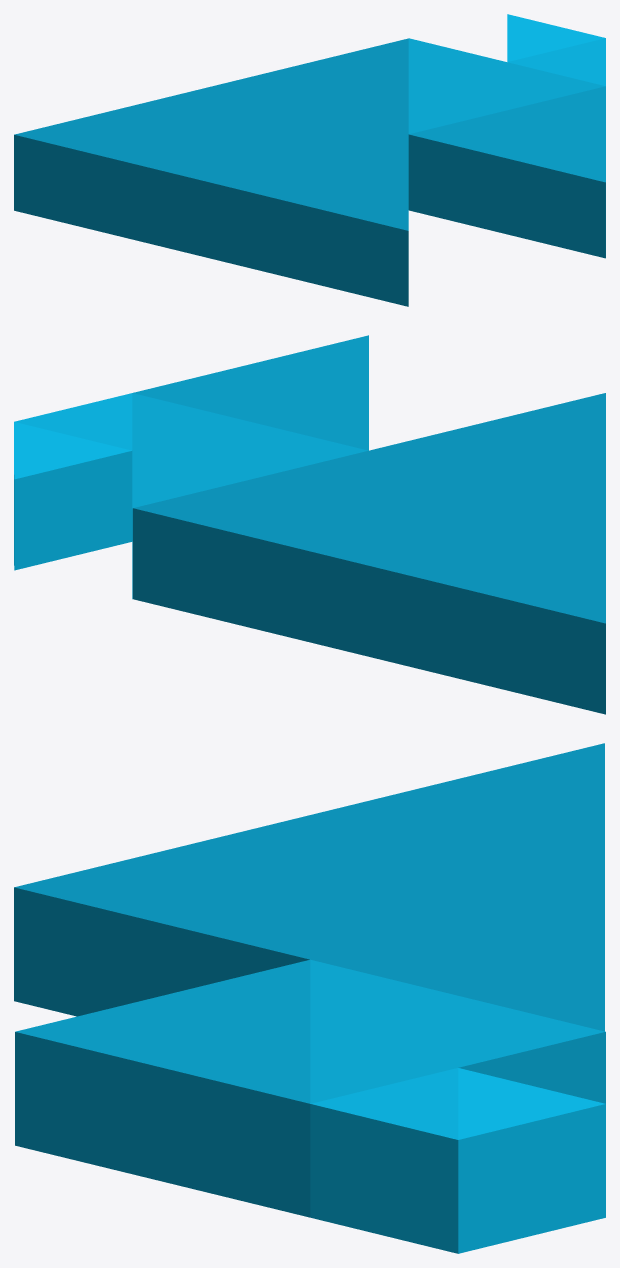
File: webgpu.gltf
3 views of the same model, one above another, from view 1: azimuth 30°, elevation 25°; view 2: azimuth 150°, elevation 25°; view 3: azimuth 270°, elevation 25° (orthographic). The views are drawn at different scales.
Parts seen in each view (by area): view 1: Triangle_1, Triangle_3, Triangle_2, Triangle_5, Triangle_4; view 2: Triangle_1, Triangle_5, Triangle_2, Triangle_3, Triangle_4; view 3: Triangle_1, Triangle_3, Triangle_2, Triangle_4, Triangle_5.
Boxes of the visible parts, bbox=[...] form: Triangle_1: bbox=[14, 38, 408, 306]; Triangle_3: bbox=[408, 86, 605, 258]; Triangle_2: bbox=[408, 38, 604, 134]; Triangle_5: bbox=[507, 14, 605, 61]; Triangle_4: bbox=[507, 38, 605, 86]; Triangle_1: bbox=[133, 393, 605, 714]; Triangle_5: bbox=[14, 422, 132, 570]; Triangle_2: bbox=[132, 393, 367, 599]; Triangle_3: bbox=[133, 335, 368, 450]; Triangle_4: bbox=[14, 393, 132, 450]; Triangle_1: bbox=[14, 743, 604, 1031]; Triangle_3: bbox=[15, 960, 310, 1217]; Triangle_2: bbox=[310, 959, 605, 1103]; Triangle_4: bbox=[310, 1068, 458, 1253]; Triangle_5: bbox=[458, 1068, 605, 1253].
Bounding box in the file's own units: 0.187 × 0.025 × 0.1178.
